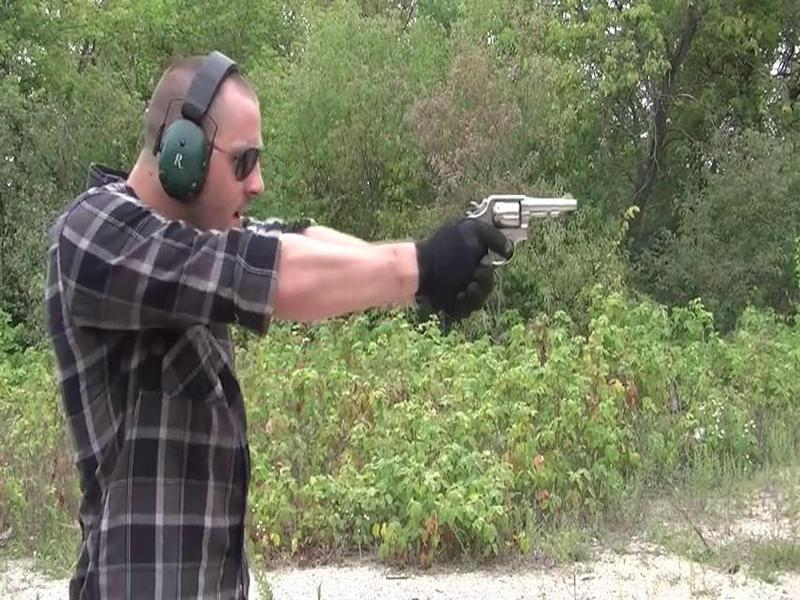Revolver: (455, 181, 583, 274)
